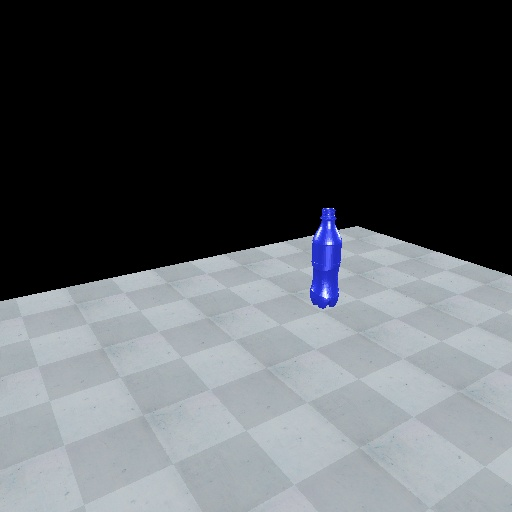bottle: (307, 204, 344, 309)
